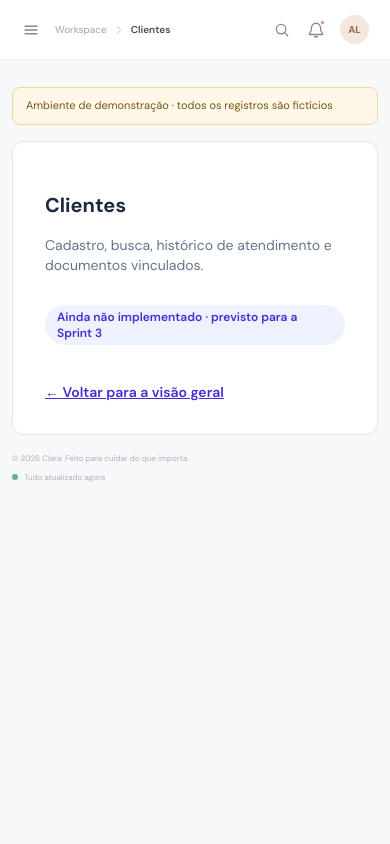
Menu responsivo › fecha o menu aberto ao pressionar Escape
Step 1. Click the button named "Abrir menu" → click(31, 30), box [15, 14, 47, 46]
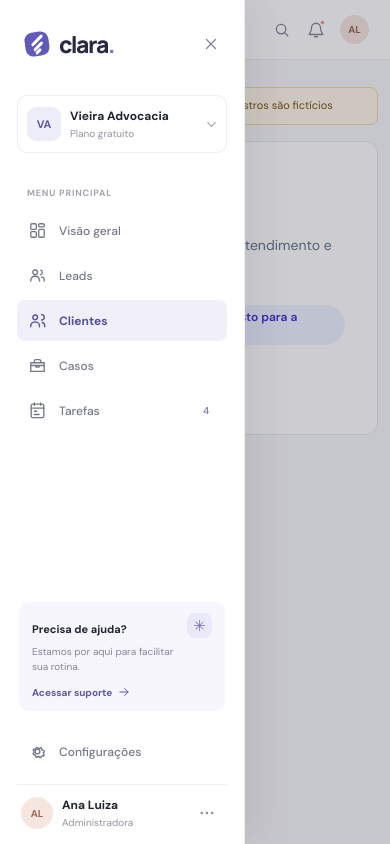
Step 2. Press Escape
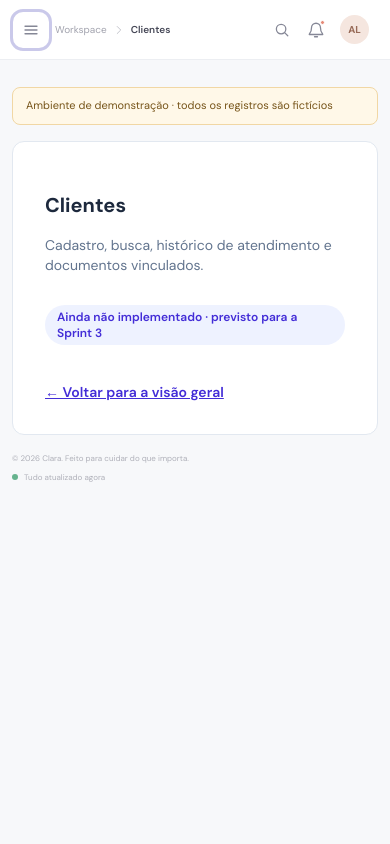
Check: the button named "Abrir menu" is collapsed, box [15, 14, 47, 46]
